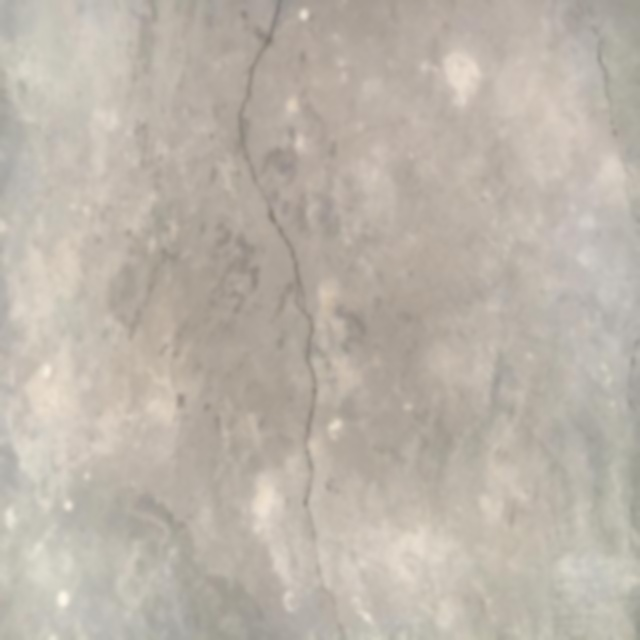SurfaceCrack: (206, 0, 375, 640), (543, 1, 640, 640)
